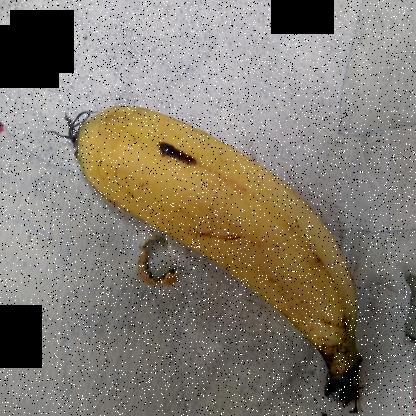freshripe: (64, 108, 358, 363)
